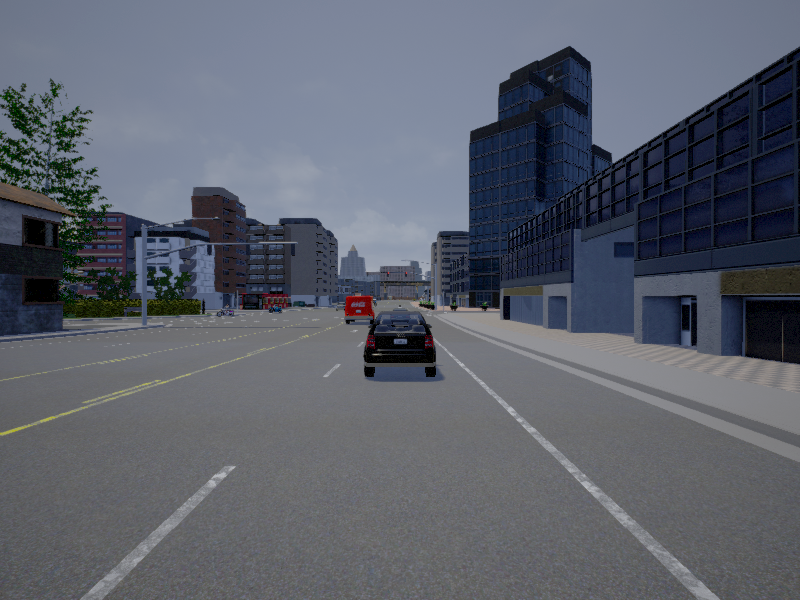Benign: (364, 311, 438, 379), (343, 294, 376, 323)
